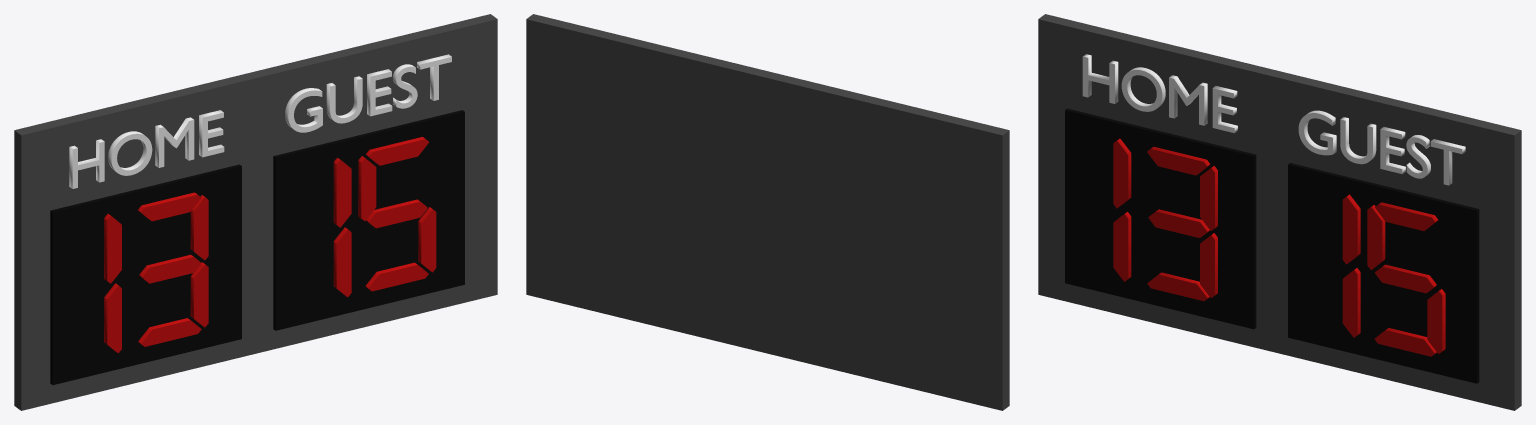
Rendered from ScoreA-Ep6.fbx.
3 renders of one model, left to right at view 1: azimuth 30°, elevation 25°; view 2: azimuth 150°, elevation 25°; view 3: azimuth 330°, elevation 25°, orthographic.
Parts seen in each view (by area): view 1: ScoreA; view 2: ScoreA; view 3: ScoreA.
Part boxes in pixels (x1=…): ScoreA: x1=14, y1=14, x2=497, y2=410; ScoreA: x1=526, y1=14, x2=1009, y2=410; ScoreA: x1=1038, y1=14, x2=1521, y2=410.
Size of the model in its own units: 1356 by 749 by 61.83.
